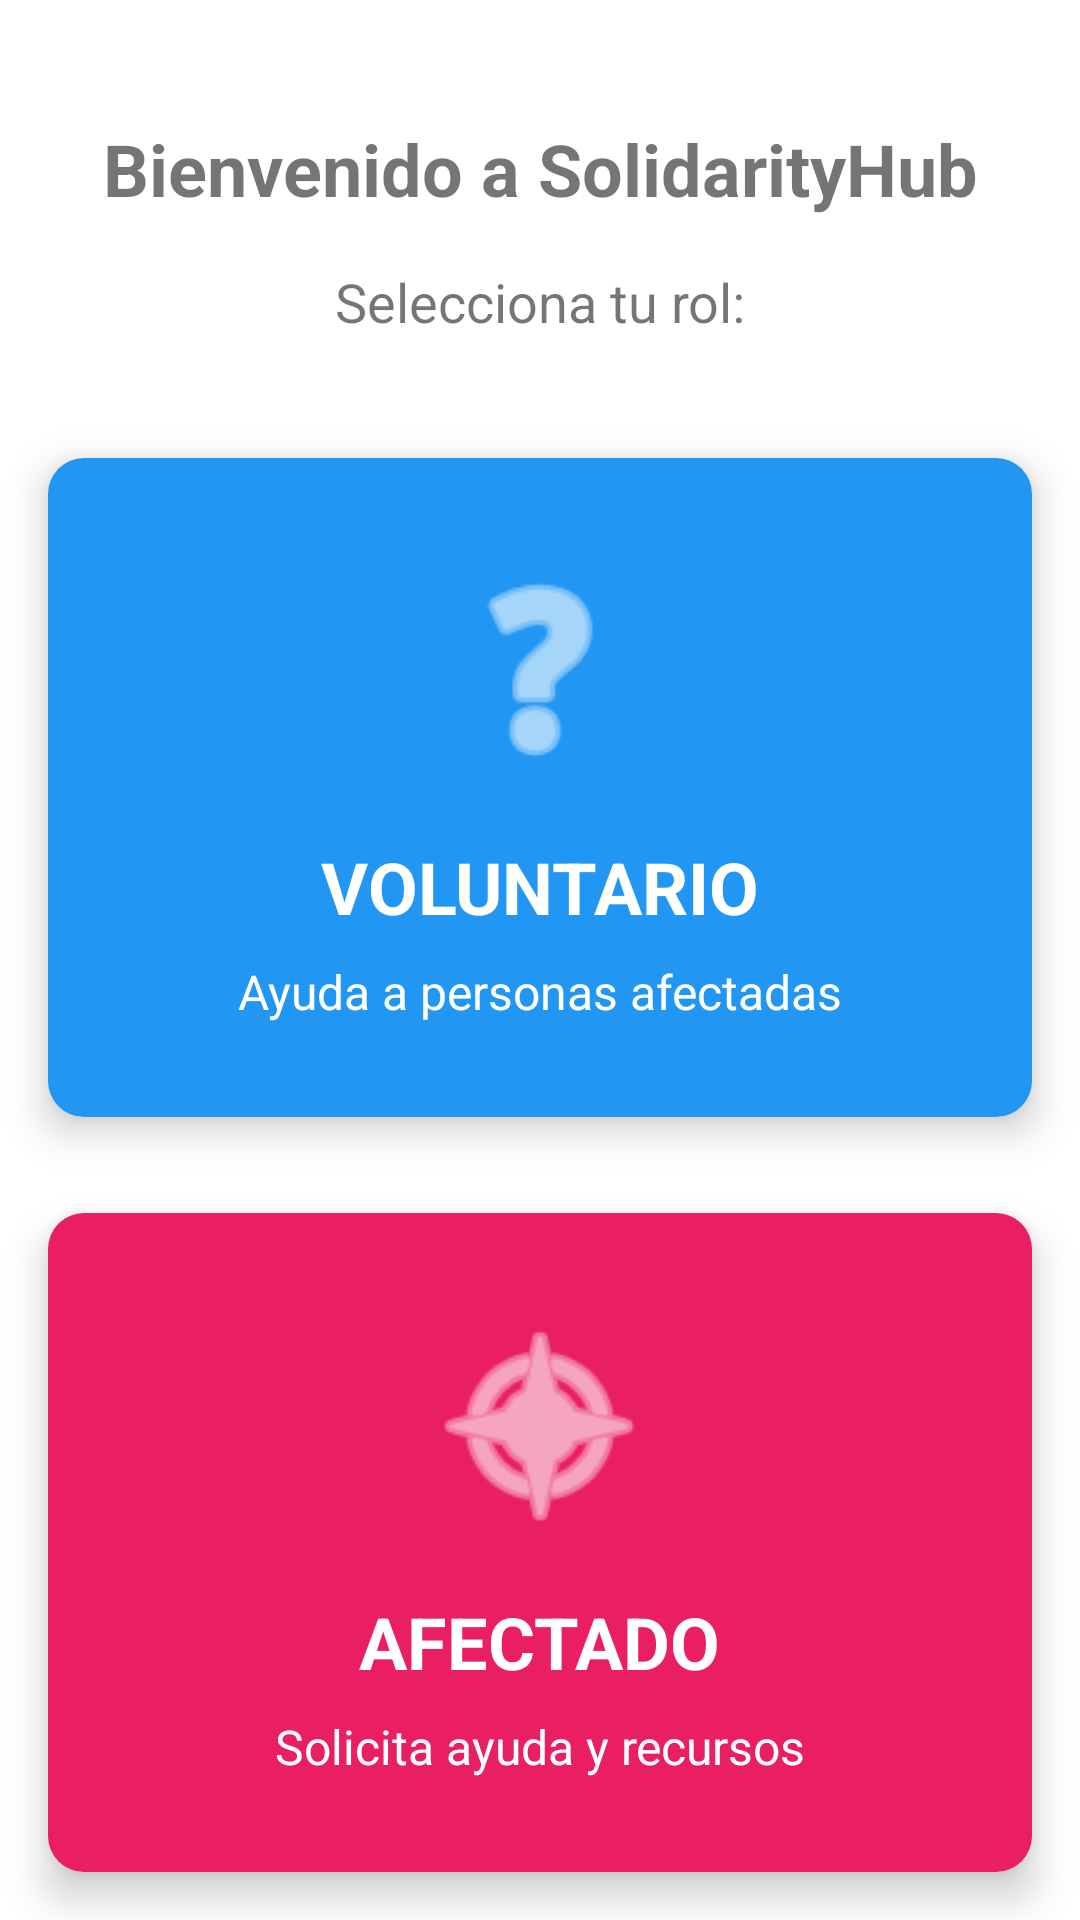

Locate icon controls on the screen. Image size 1080 x 1920, boxes as (x1, y1, x2, y2).
compass: (444, 1332, 634, 1521)
help: (487, 584, 593, 756)
